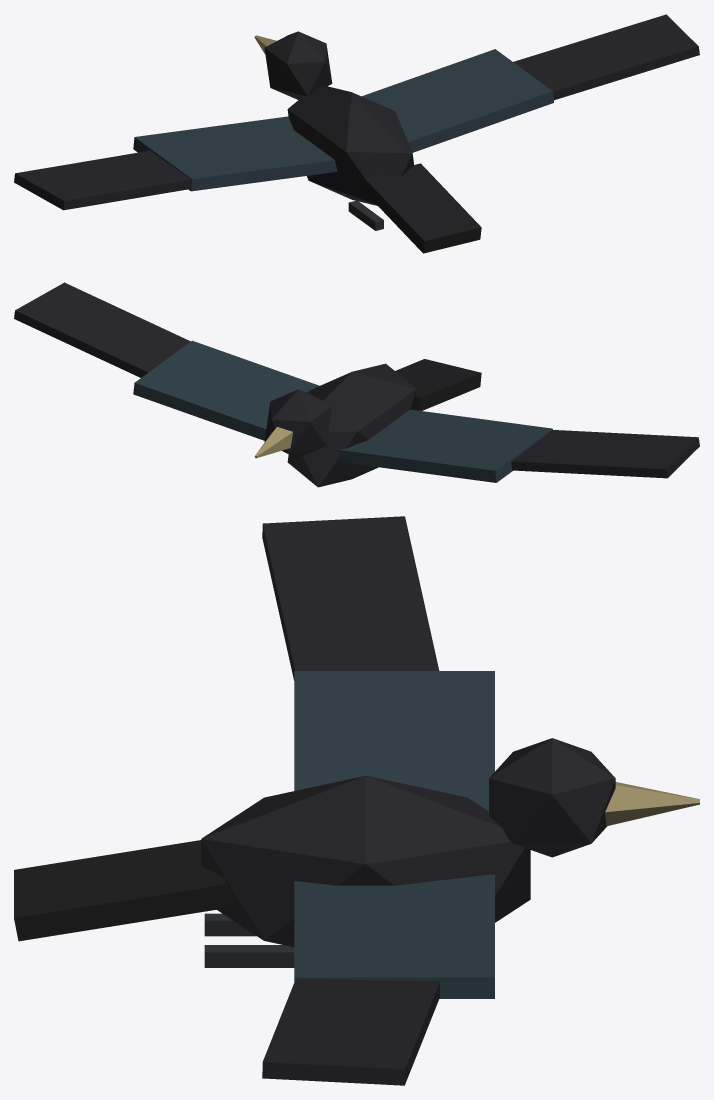
The model's file is crow_fly_f1.glb.
3 renders of one model, top to bottom at view 1: azimuth 30°, elevation 25°; view 2: azimuth 150°, elevation 25°; view 3: azimuth 270°, elevation 25°, orthographic. The views are drawn at different scales.
Parts seen in each view (by area): view 1: crow_fly_f1; view 2: crow_fly_f1; view 3: crow_fly_f1.
Boxes of the visible parts, <box> form: crow_fly_f1: <box>14,14,699,253</box>; crow_fly_f1: <box>14,282,699,487</box>; crow_fly_f1: <box>14,516,699,1085</box>.
Size of the model in its own units: 0.9158 by 0.173 by 0.4784.
Materials: 3 (3 with a texture image).
